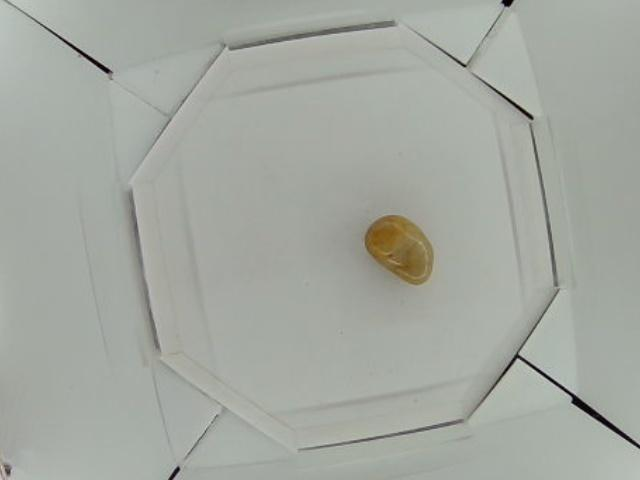Pebble: (364, 213, 436, 288)
